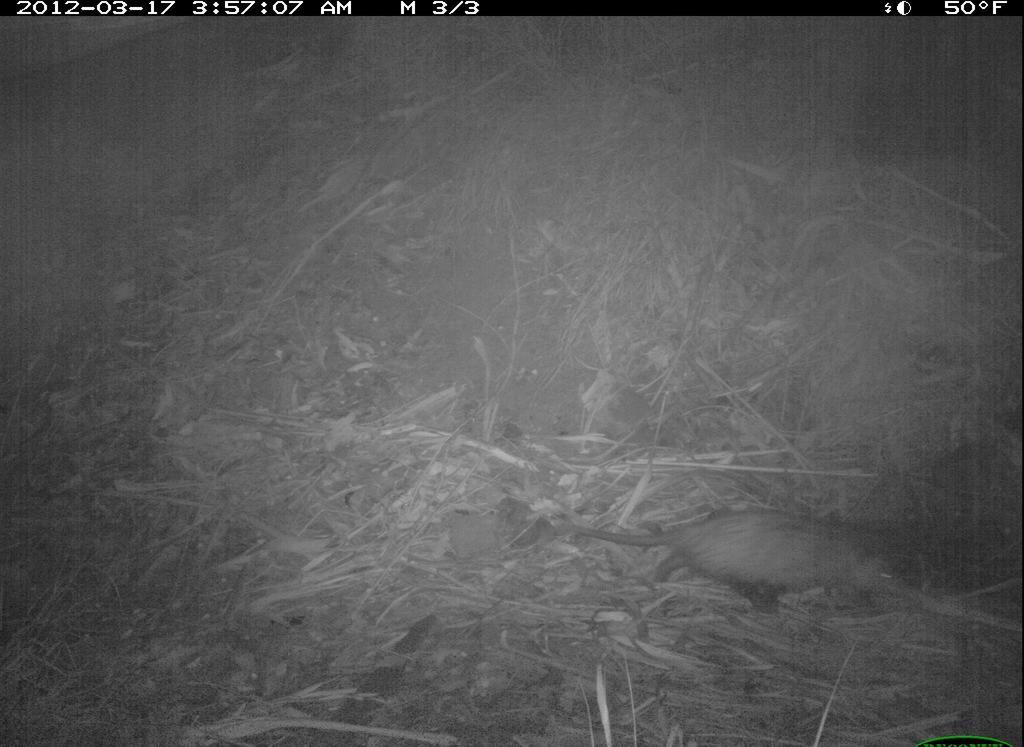opossum: (609, 498, 904, 625)
